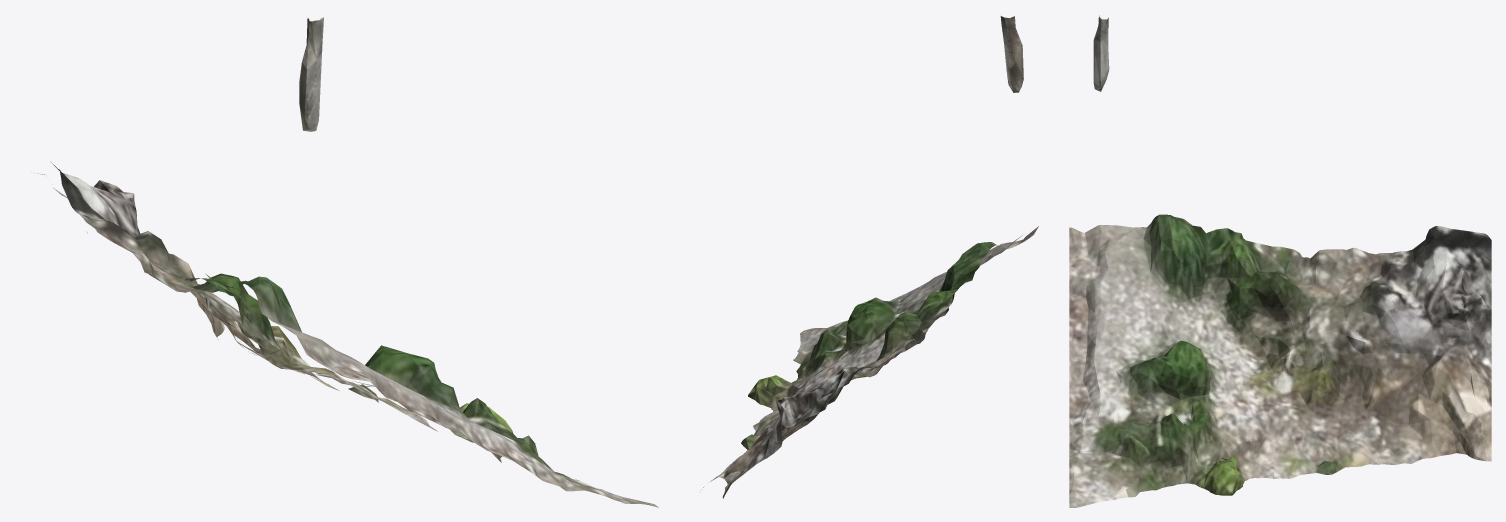
The picture shows the model from 3 angles, left to right: view 1: azimuth 30°, elevation 25°; view 2: azimuth 150°, elevation 25°; view 3: azimuth 270°, elevation 25°; orthographic projection. The views are drawn at different scales.
Bounding box in the file's own units: 1.92 × 2.95 × 2.95.
2 materials, 2 textured.
